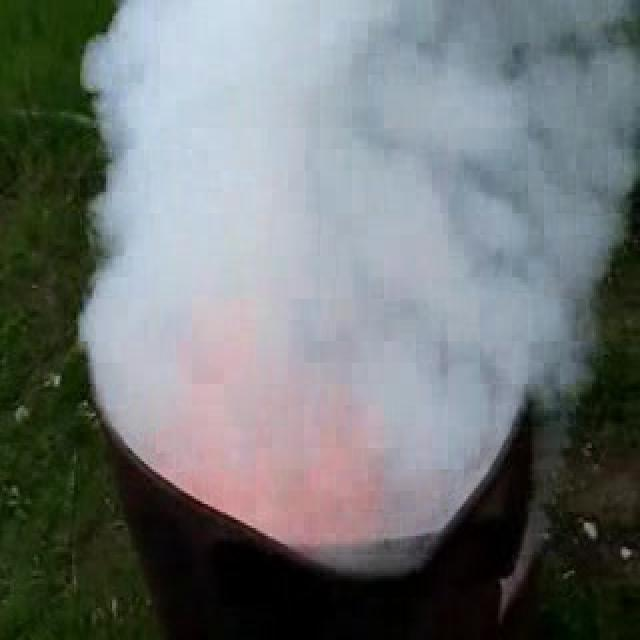Smoke: (73, 0, 640, 574)
